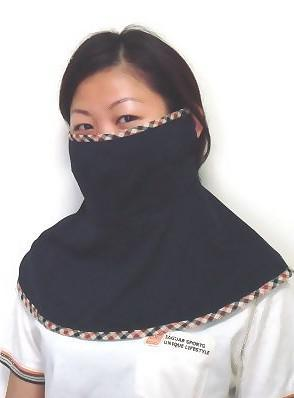OK: (73, 105, 158, 190)
